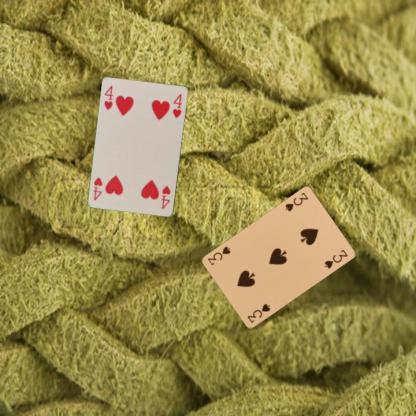3s: (244, 301, 272, 325), (282, 190, 310, 213)
4h: (102, 83, 114, 111), (159, 183, 171, 210)
